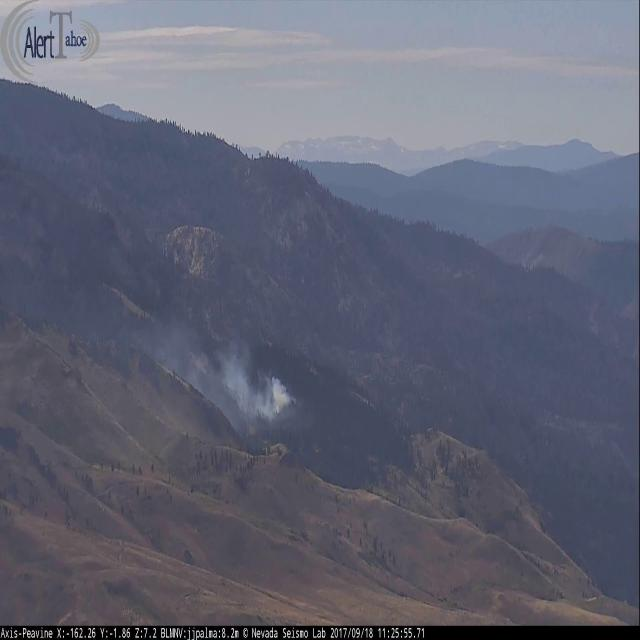smoke: (136, 320, 300, 439)
